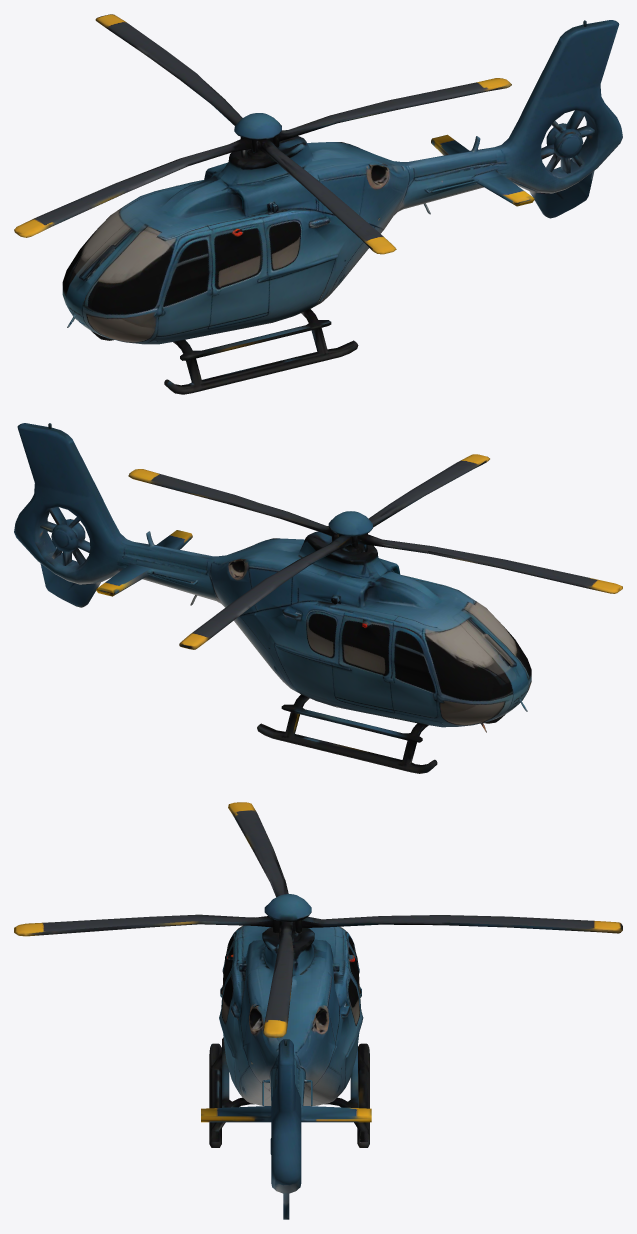
The model's file is halicopter_realistic_style_e49e9af4_v3.glb.
3 renders of one model, top to bottom at view 1: azimuth 30°, elevation 25°; view 2: azimuth 150°, elevation 25°; view 3: azimuth 270°, elevation 25°, orthographic. The views are drawn at different scales.
Visible parts, largest first — view 1: texture_pbr_20250901; view 2: texture_pbr_20250901; view 3: texture_pbr_20250901.
Part boxes in pixels (x1,y1,x2,y2): texture_pbr_20250901: (14, 14, 622, 394); texture_pbr_20250901: (14, 423, 622, 773); texture_pbr_20250901: (14, 802, 622, 1219).
Size of the model in its own units: 1.9 by 0.6972 by 1.59.
1 material, 1 textured.
